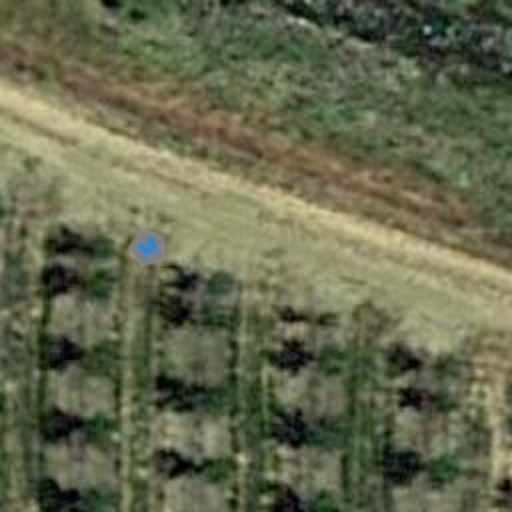pentagon: (118, 218, 178, 278)
